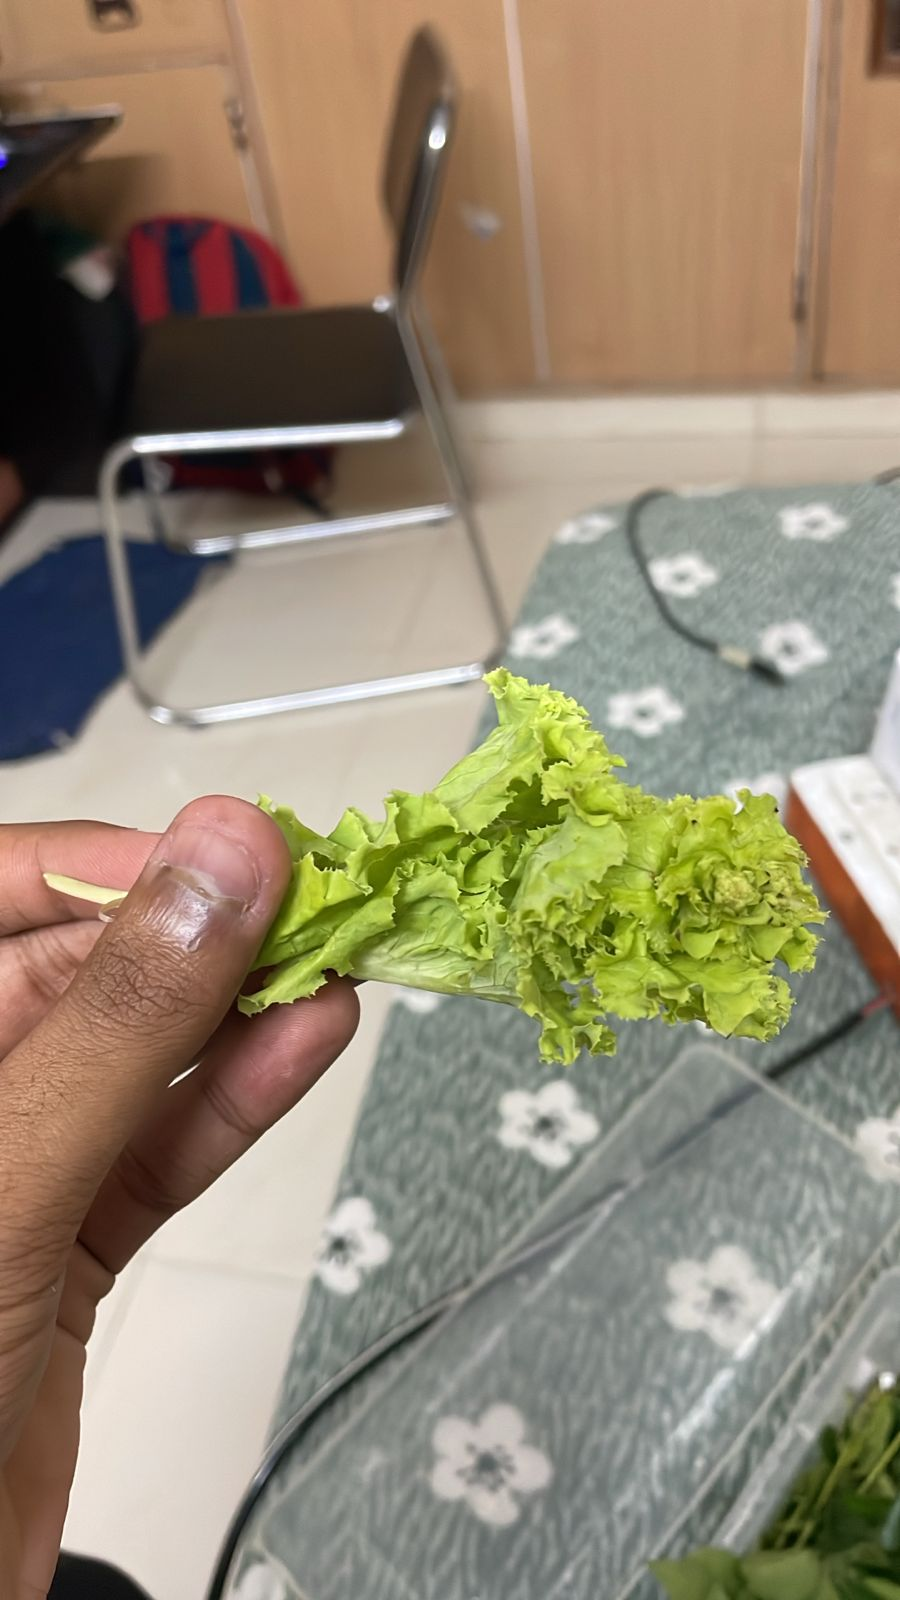wet: (30, 646, 830, 1063)
